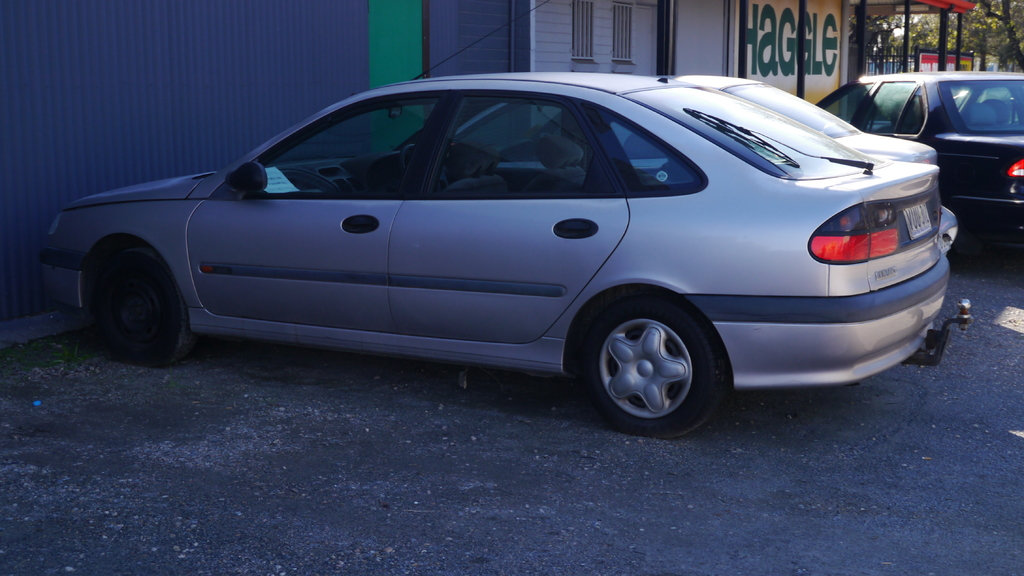Car: (41, 0, 958, 444), (816, 69, 1023, 250)
